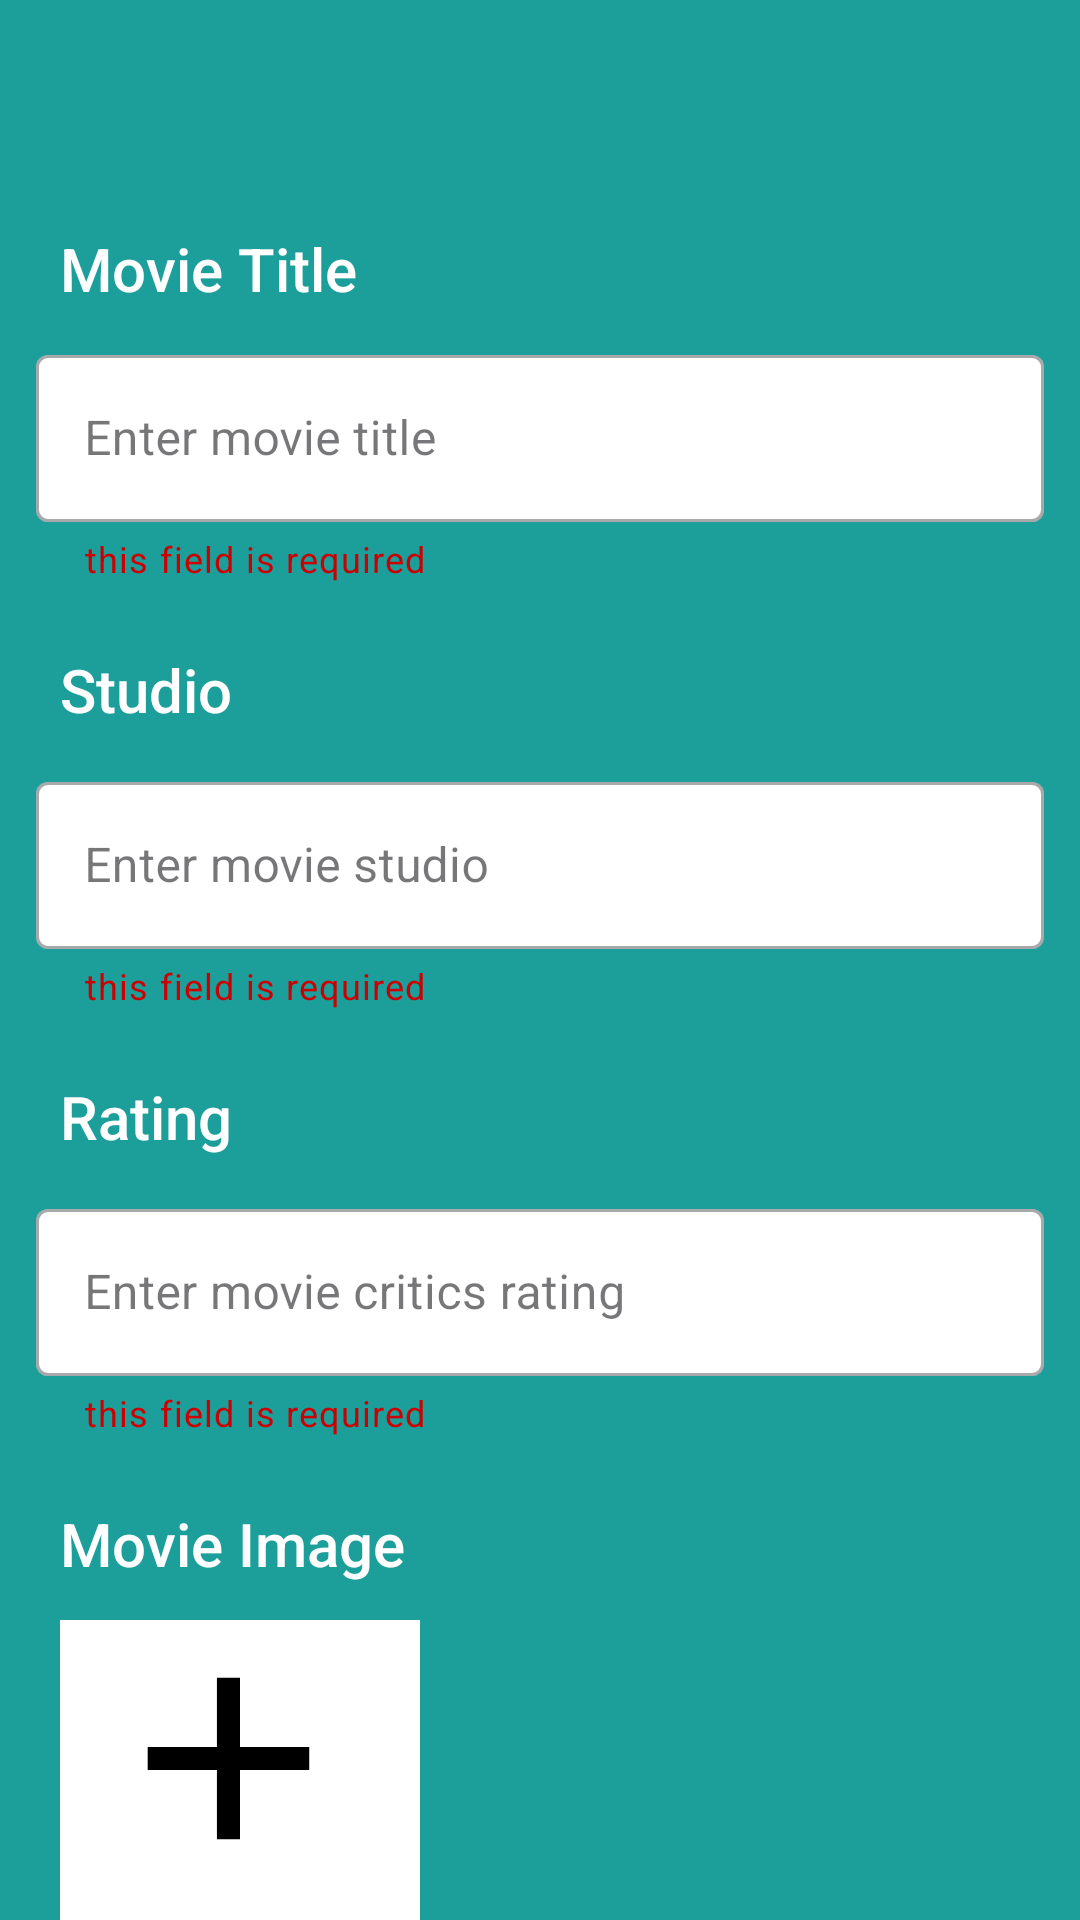

Point at icon controls on the screen. Image size 1080×1920, points as (x=x, y=y).
add: (x=240, y=1770)
